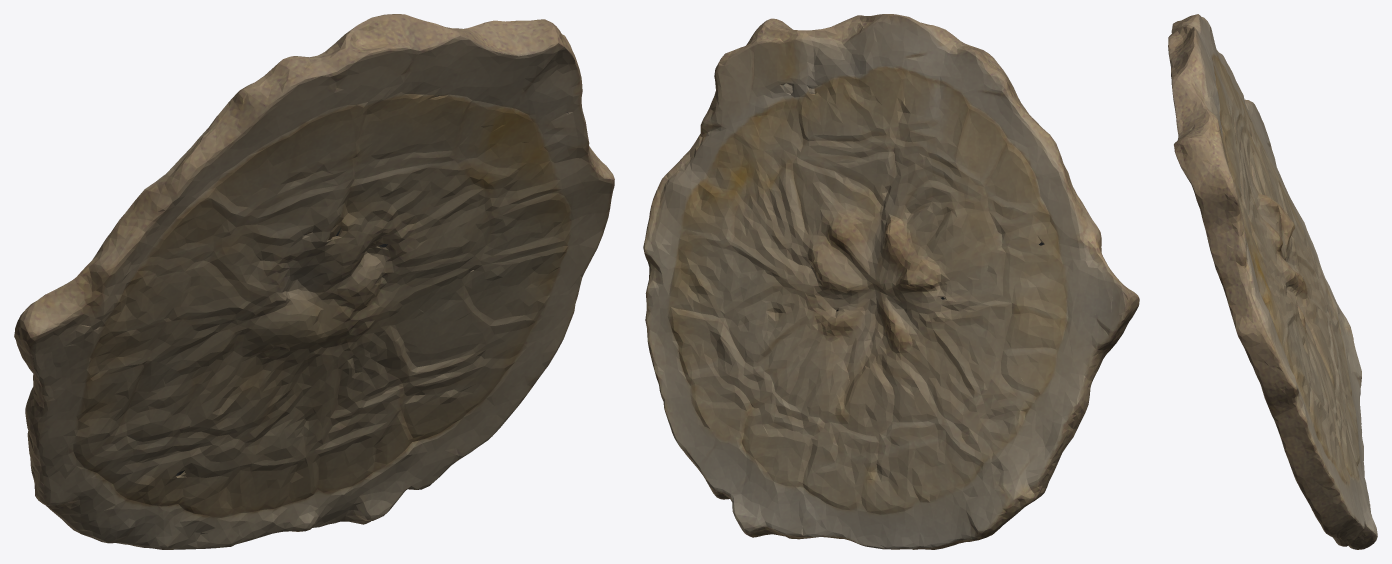
Rendered from model-vdfbf4735950d.glb.
3 views of the same model, side by side, from view 1: azimuth 30°, elevation 25°; view 2: azimuth 150°, elevation 25°; view 3: azimuth 270°, elevation 25° (orthographic). The views are drawn at different scales.
Parts seen in each view (by area): view 1: world; view 2: world; view 3: world.
Boxes of the visible parts, x1,y1,x2,y2 form: world: (14, 14, 614, 549); world: (643, 14, 1139, 549); world: (1168, 14, 1377, 549).
Bounding box in the file's own units: 0.999 × 0.9684 × 0.3806.
1 material, 1 textured.
